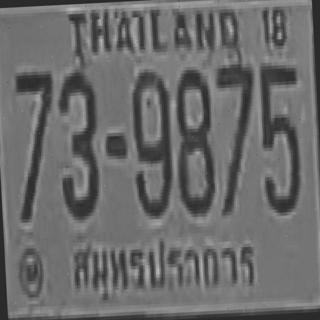N03: (55, 68, 100, 218)
N05: (257, 62, 303, 214)
N07: (13, 68, 57, 220), (214, 61, 258, 212)
N08: (172, 66, 214, 214)
N09: (129, 67, 173, 215)
P57: (67, 225, 262, 314)
